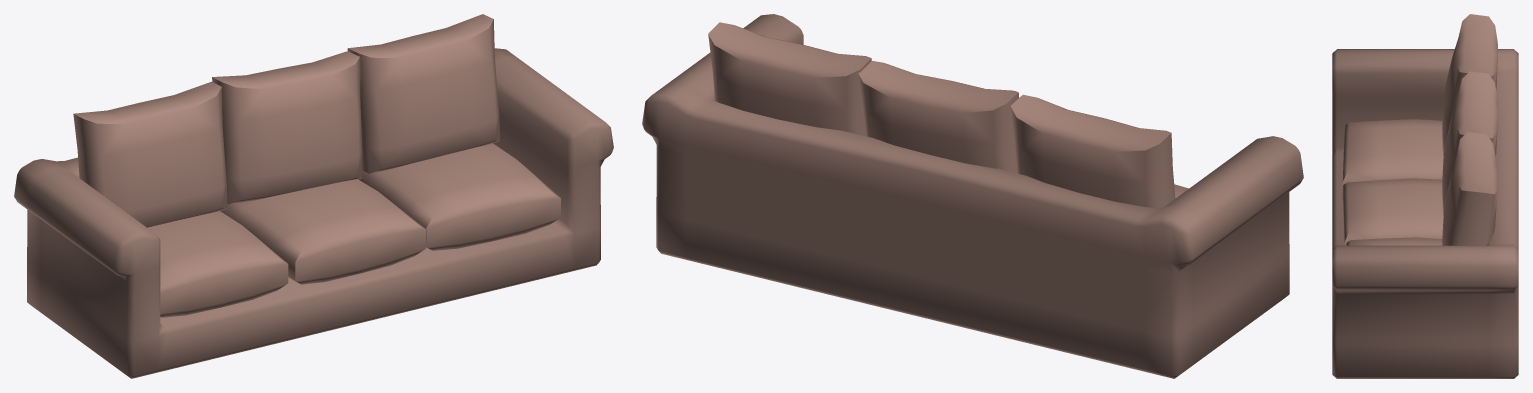
File: sofa.glb
3 views of the same model, side by side, from view 1: azimuth 30°, elevation 25°; view 2: azimuth 150°, elevation 25°; view 3: azimuth 270°, elevation 25° (orthographic). The views are drawn at different scales.
Visible parts, largest first — view 1: Couch_Large1; view 2: Couch_Large1; view 3: Couch_Large1.
Boxes of the visible parts, x1,y1,x2,y2 form: Couch_Large1: [14, 14, 613, 378]; Couch_Large1: [642, 14, 1303, 378]; Couch_Large1: [1332, 14, 1518, 378].
Size of the model in its own units: 5.48 by 2.11 by 1.99.
